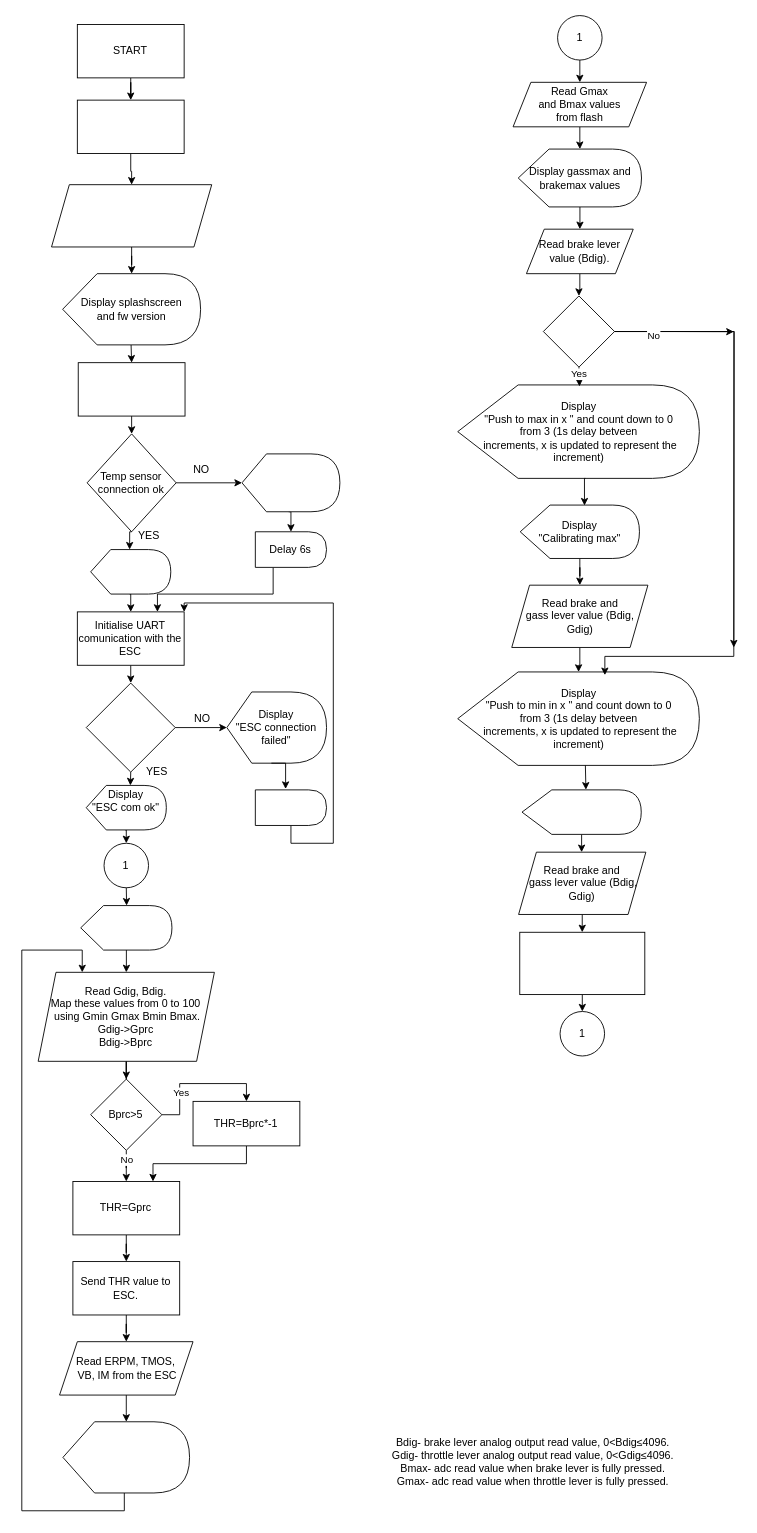
The diagram is 757 pixels wide and 1533 high, and some of its shapes have lost their labels. Each missing label, with the box of its shape:
Bdig>2000: (542, 295, 615, 367)
Check temperature sensor connection: (77, 362, 185, 416)
Clear LCD: (76, 99, 184, 154)
Delay 1s: (254, 789, 327, 825)
Display "BME Fail": (241, 453, 340, 512)
Display "BME OK": (90, 549, 171, 594)
Display "Calibrating min": (521, 789, 641, 834)
Display "Calibration ok": (80, 905, 172, 950)
Display ERPM, TMOS, VB, IM.: (62, 1421, 190, 1493)
Inisialisation sucesfull: (85, 682, 175, 772)
Read the splashscreen data and fw version from internal memory.: (51, 184, 212, 247)
Update and write Gmax and Bmax values to memory. (Gmin=Gdig Bmin=Bdig): (519, 931, 645, 995)
